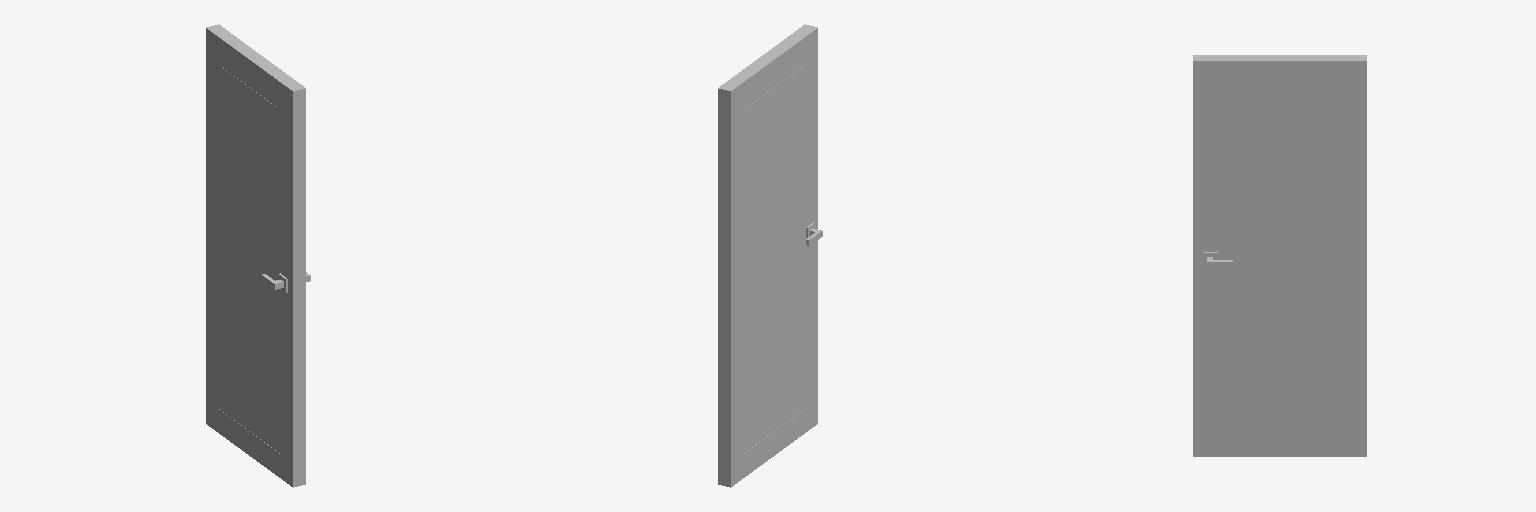
Rendered from door802_.obj.
3 views of the same model, side by side, from view 1: azimuth 30°, elevation 25°; view 2: azimuth 150°, elevation 25°; view 3: azimuth 270°, elevation 25° (orthographic).
Visible parts, largest first — view 1: Cube_Cube; view 2: Cube_Cube; view 3: Cube_Cube.
Boxes of the visible parts, <box> form: Cube_Cube: <box>206,24,310,487</box>; Cube_Cube: <box>718,24,822,487</box>; Cube_Cube: <box>1193,55,1366,456</box>.
Size of the model in its own units: 0.19 by 2 by 0.8002.